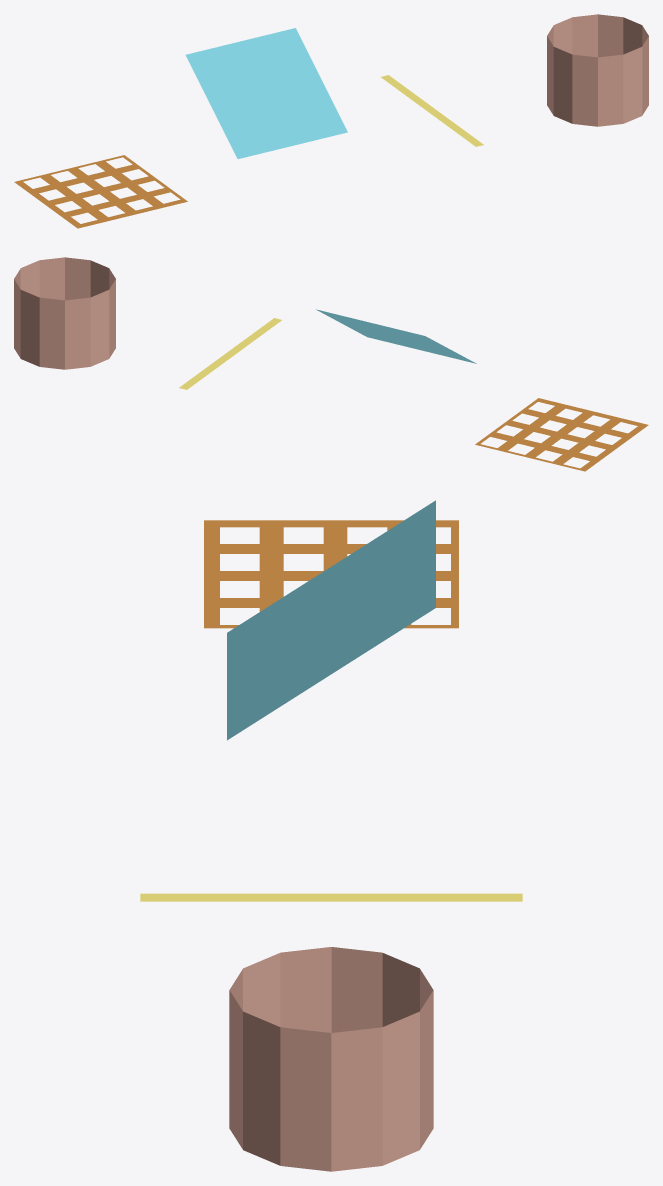
The picture shows the model from 3 angles, top to bottom: view 1: azimuth 30°, elevation 25°; view 2: azimuth 150°, elevation 25°; view 3: azimuth 270°, elevation 25°; orthographic projection. The views are drawn at different scales.
Parts seen in each view (by area): view 1: flap, shade, grating, tape; view 2: shade, grating, flap, tape; view 3: shade, flap, grating, tape.
Part boxes in pixels (x1,y1,x2,y2): flap: (185,28,347,158); shade: (547,14,648,126); grating: (14,155,187,228); tape: (381,75,483,146); shade: (14,257,115,369); grating: (475,398,648,471); flap: (316,309,476,363); tape: (179,318,281,389); shade: (229,947,433,1171); flap: (227,500,435,740); grating: (204,520,458,628); tape: (140,893,522,901).
Size of the model in its own units: 10.8 by 2.17 by 3.
4 materials, 1 textured.
